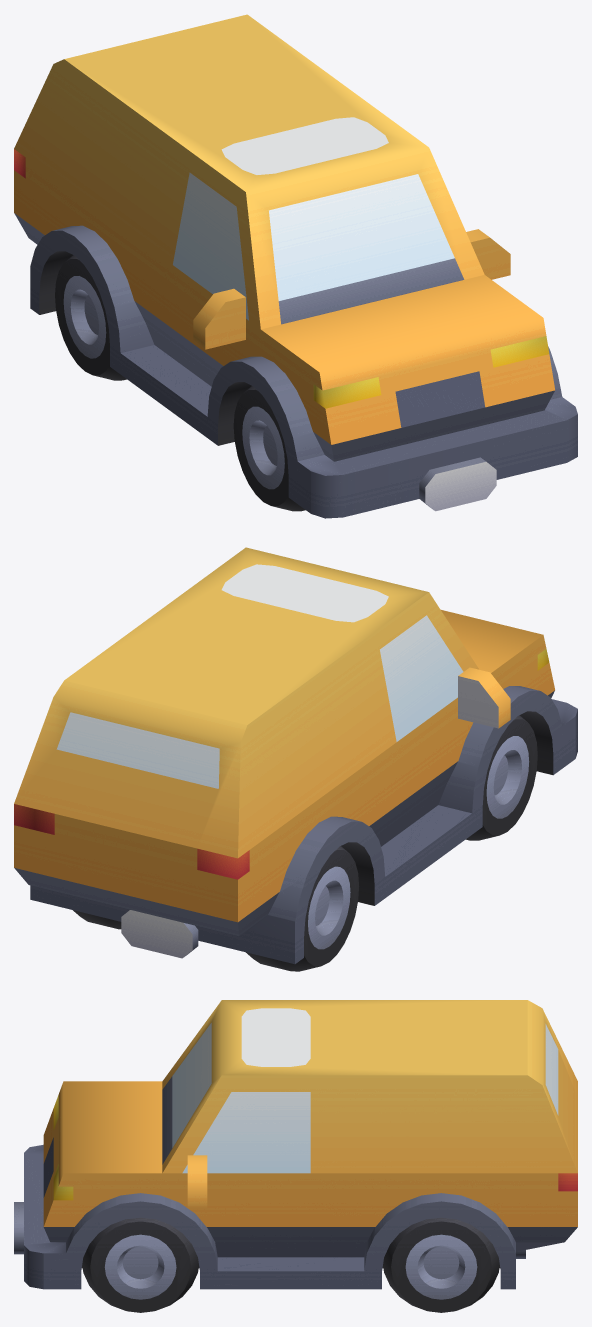
Rendered from suv-luxury.glb.
3 views of the same model, one above another, from view 1: azimuth 30°, elevation 25°; view 2: azimuth 150°, elevation 25°; view 3: azimuth 270°, elevation 25° (orthographic). The views are drawn at different scales.
Visible parts, largest first — view 1: body, wheel-front-right, wheel-back-right; view 2: body, wheel-back-right, wheel-front-right; view 3: body, wheel-back-left, wheel-front-left.
Boxes of the visible parts, <box> form: body: <box>14,14,577,518</box>; wheel-front-right: <box>233,386,305,511</box>; wheel-back-right: <box>55,255,126,380</box>; body: <box>14,547,577,964</box>; wheel-back-right: <box>246,846,359,971</box>; wheel-front-right: <box>466,715,537,840</box>; body: <box>14,1000,577,1289</box>; wheel-back-left: <box>383,1217,499,1312</box>; wheel-front-left: <box>82,1217,198,1312</box>.
Size of the model in its own units: 1.5 by 1.3 by 2.85.
Materials: 1 (1 with a texture image).
